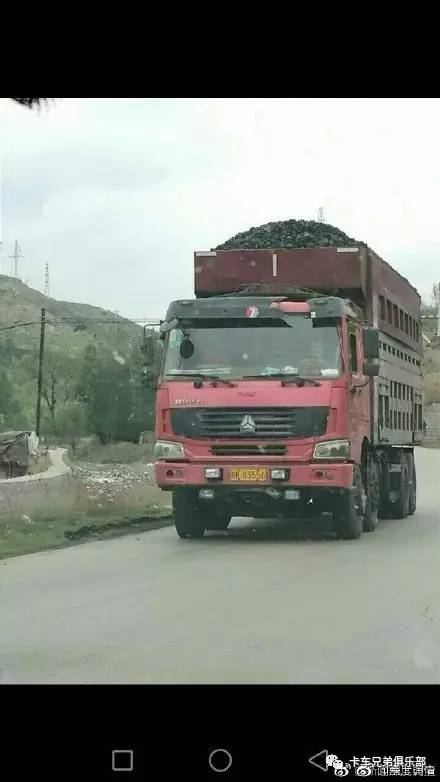chaozhai: (102, 210, 426, 545)
